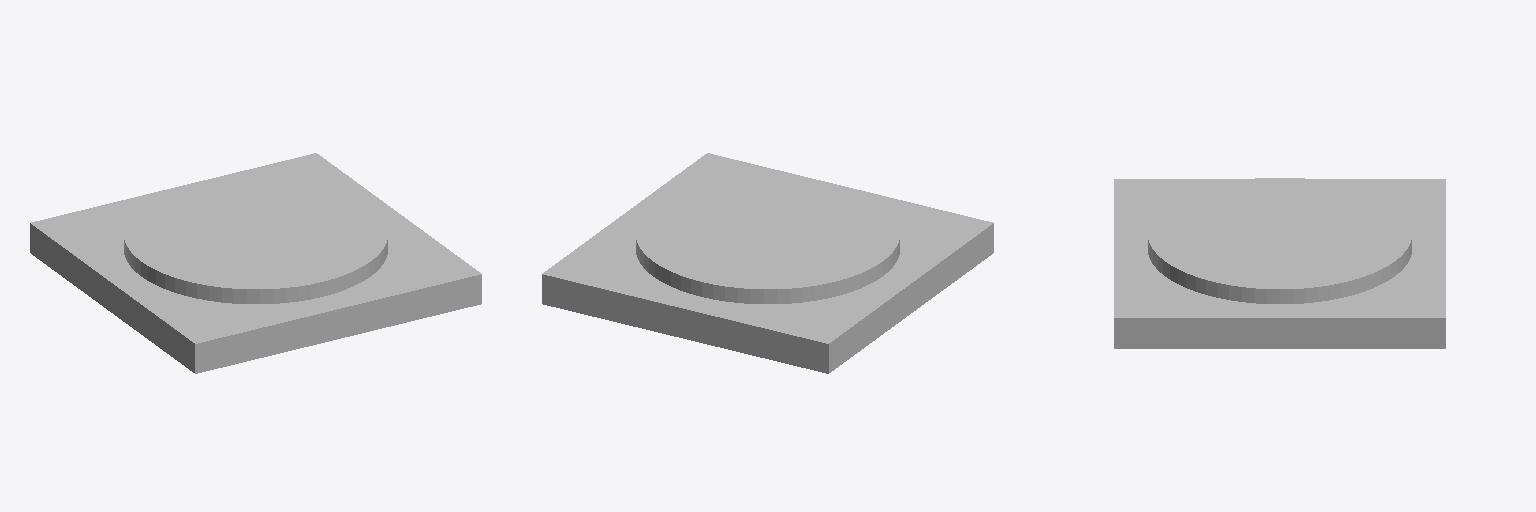
Rendered from Button.obj.
3 views of the same model, side by side, from view 1: azimuth 30°, elevation 25°; view 2: azimuth 150°, elevation 25°; view 3: azimuth 270°, elevation 25° (orthographic).
Parts seen in each view (by area): view 1: Plane; view 2: Plane; view 3: Plane.
Boxes of the visible parts, x1,y1,x2,y2 form: Plane: [30, 153, 481, 373]; Plane: [542, 153, 993, 373]; Plane: [1114, 178, 1445, 348].
Size of the model in its own units: 1 by 0.15 by 1.